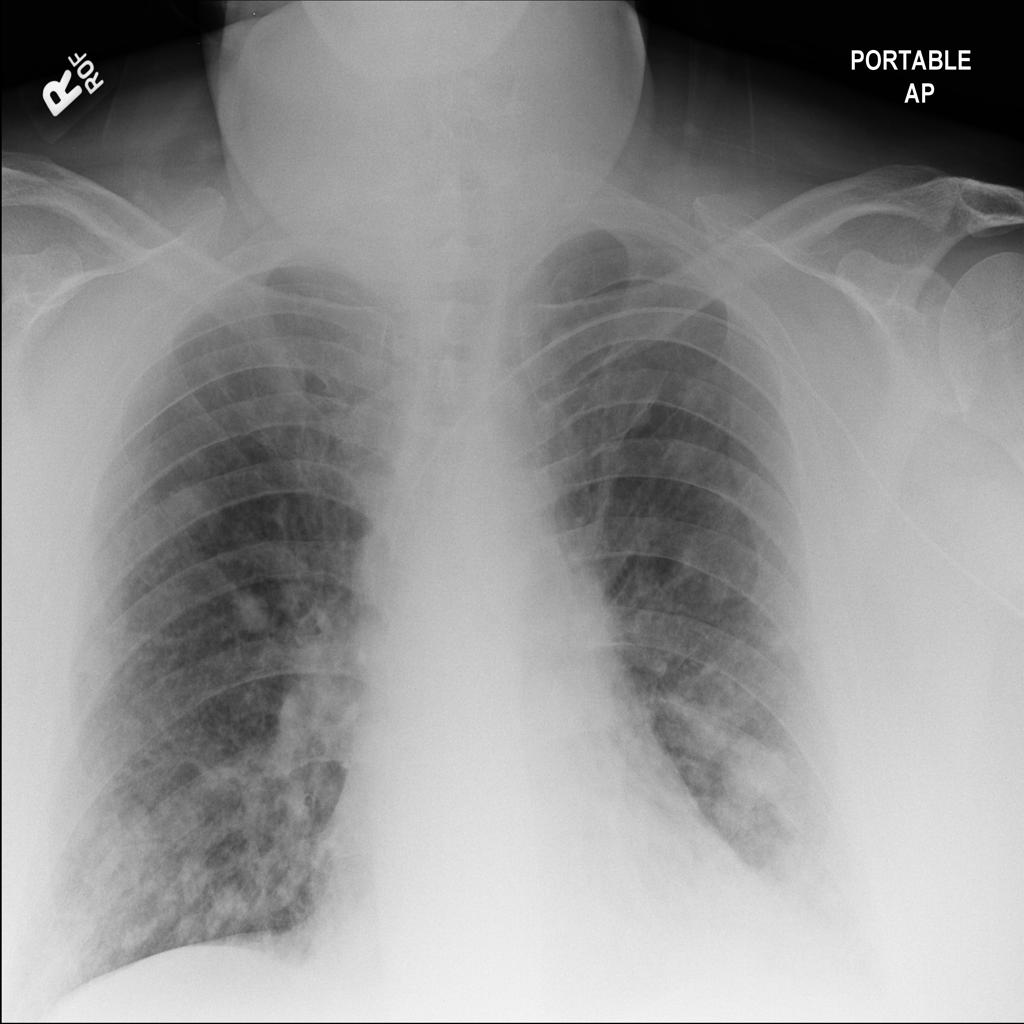nodule: (218, 572, 285, 646)
